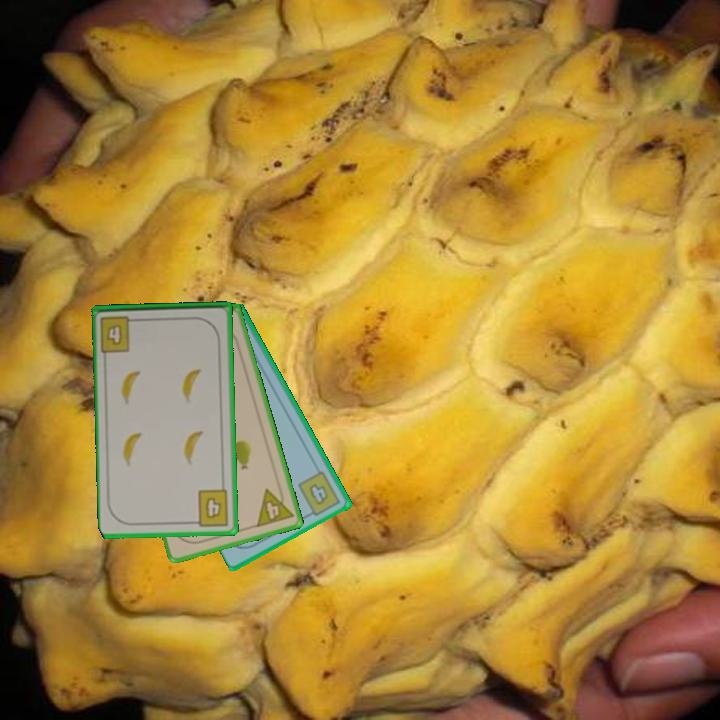4b: (294, 467, 343, 520), (97, 312, 142, 355), (189, 486, 231, 529)
4p: (253, 482, 296, 530)
